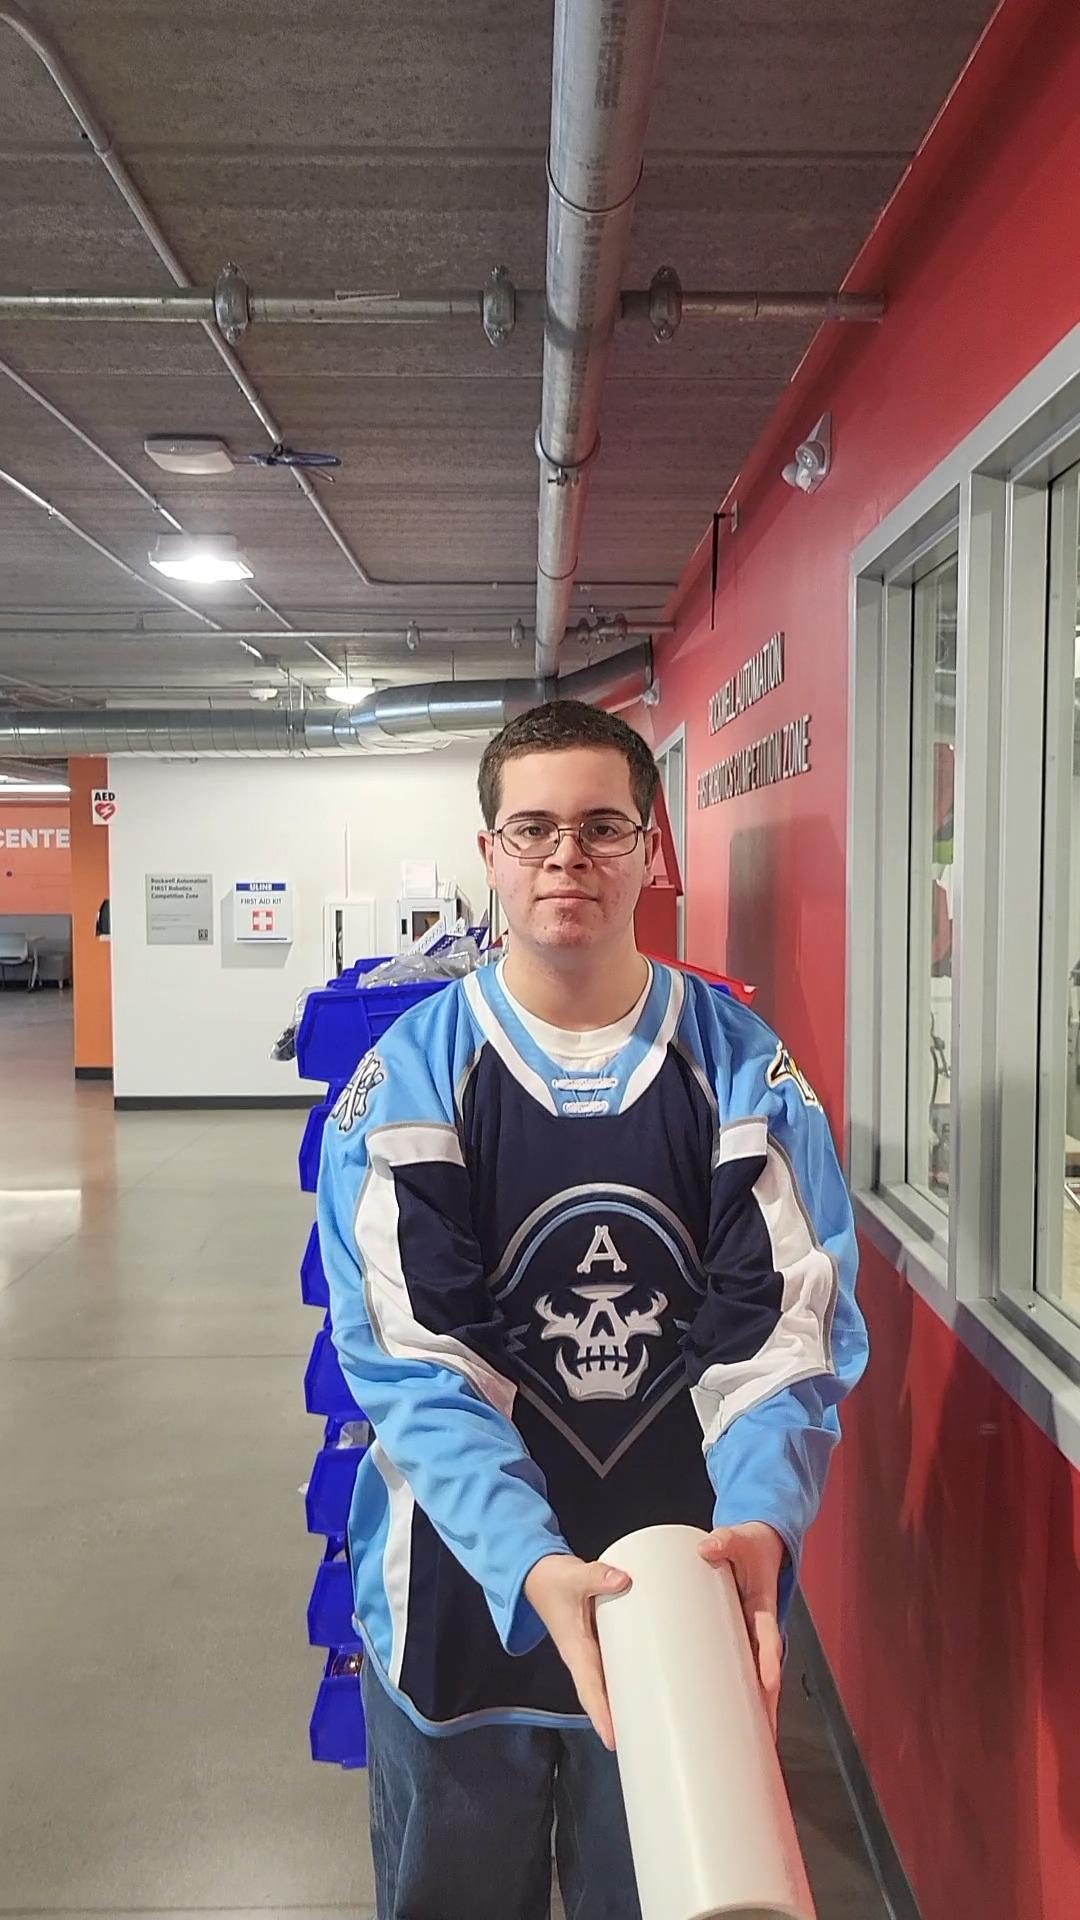coral: (583, 1520, 820, 1920)
